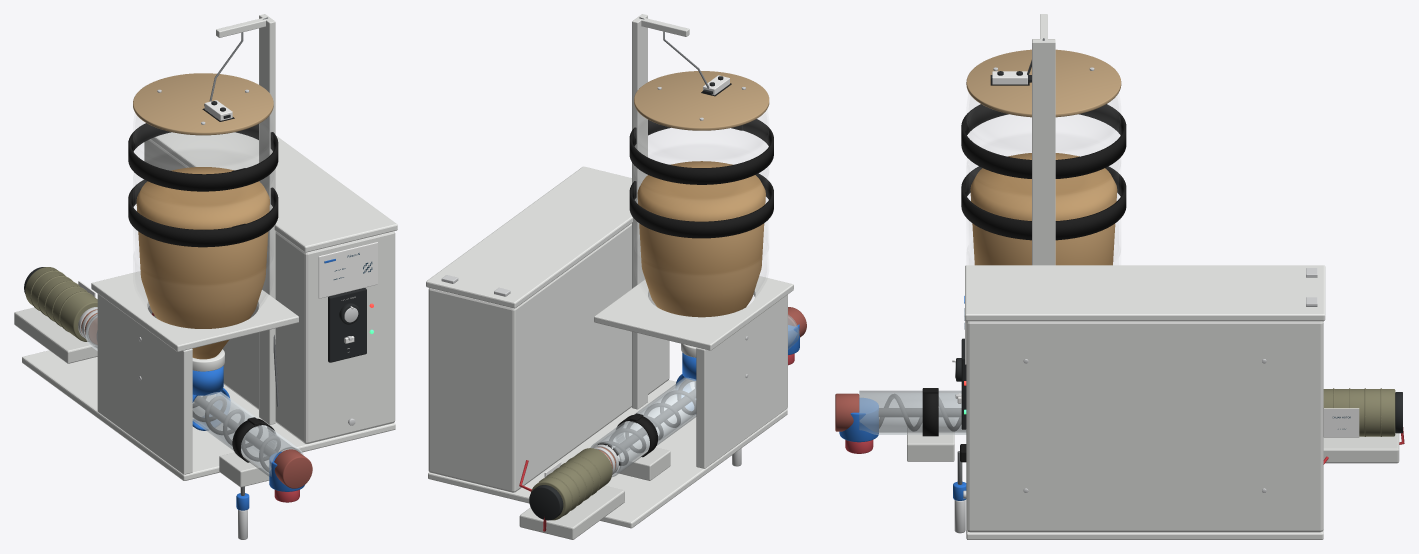
Rendered from feeder-v1.2.0.glb.
3 renders of one model, left to right at view 1: azimuth 30°, elevation 25°; view 2: azimuth 150°, elevation 25°; view 3: azimuth 270°, elevation 25°, orthographic. The views are drawn at different scales.
Parts seen in each view (by area): view 1: Chassis, Grain_Fill, Shelf_Support, Chassis_Lid, Hopper_Lid, Base_Plate, Hopper_Glass, Shelf, Post, Tube_Glass, Hopper_Strap_2, Hopper_Strap_1 (+11 smaller); view 2: Chassis, Grain_Fill, Chassis_Lid, Shelf_Support, Base_Plate, Hopper_Lid, Shelf, Hopper_Glass, Tube_Glass, Post, Hopper_Strap_2, Hopper_Strap_1 (+8 smaller); view 3: Chassis, Chassis_Lid, Grain_Fill, Hopper_Lid, Hopper_Glass, Post, Hopper_Strap_2, Tube_Glass, Hopper_Strap_1, Base_Plate, Motor_Body, Motor_Mount (+5 smaller).
Boxes of the visible parts, left/top/right/bottom form: Chassis: left=144, top=139, right=395, bottom=443; Grain_Fill: left=136, top=167, right=269, bottom=359; Shelf_Support: left=97, top=294, right=192, bottom=474; Chassis_Lid: left=150, top=132, right=397, bottom=252; Hopper_Lid: left=133, top=73, right=273, bottom=135; Base_Plate: left=22, top=350, right=395, bottom=480; Hopper_Glass: left=133, top=116, right=272, bottom=310; Shelf: left=91, top=271, right=298, bottom=351; Post: left=259, top=14, right=275, bottom=424; Tube_Glass: left=85, top=314, right=303, bottom=476; Hopper_Strap_2: left=128, top=123, right=278, bottom=191; Hopper_Strap_1: left=128, top=179, right=278, bottom=247; Chassis: left=428, top=223, right=669, bottom=492; Grain_Fill: left=637, top=161, right=765, bottom=317; Chassis_Lid: left=426, top=166, right=632, bottom=308; Shelf_Support: left=696, top=294, right=787, bottom=468; Base_Plate: left=428, top=380, right=787, bottom=528; Hopper_Lid: left=634, top=71, right=769, bottom=130; Shelf: left=594, top=276, right=793, bottom=350; Hopper_Glass: left=634, top=112, right=768, bottom=298; Tube_Glass: left=590, top=315, right=799, bottom=476; Post: left=632, top=14, right=647, bottom=409; Hopper_Strap_2: left=629, top=119, right=773, bottom=184; Hopper_Strap_1: left=629, top=164, right=773, bottom=238; Chassis: left=966, top=321, right=1323, bottom=532; Chassis_Lid: left=965, top=265, right=1325, bottom=321; Grain_Fill: left=970, top=153, right=1117, bottom=265; Hopper_Lid: left=966, top=49, right=1121, bottom=117; Hopper_Glass: left=967, top=96, right=1120, bottom=264; Post: left=1032, top=39, right=1055, bottom=265; Hopper_Strap_2: left=961, top=104, right=1126, bottom=178; Tube_Glass: left=859, top=390, right=966, bottom=434; Hopper_Strap_1: left=961, top=156, right=1126, bottom=240; Base_Plate: left=966, top=529, right=1323, bottom=539; Motor_Body: left=1323, top=389, right=1395, bottom=436; Motor_Mount: left=1323, top=433, right=1399, bottom=463.
Size of the model in its own units: 0.359 by 0.7301 by 0.7167.
